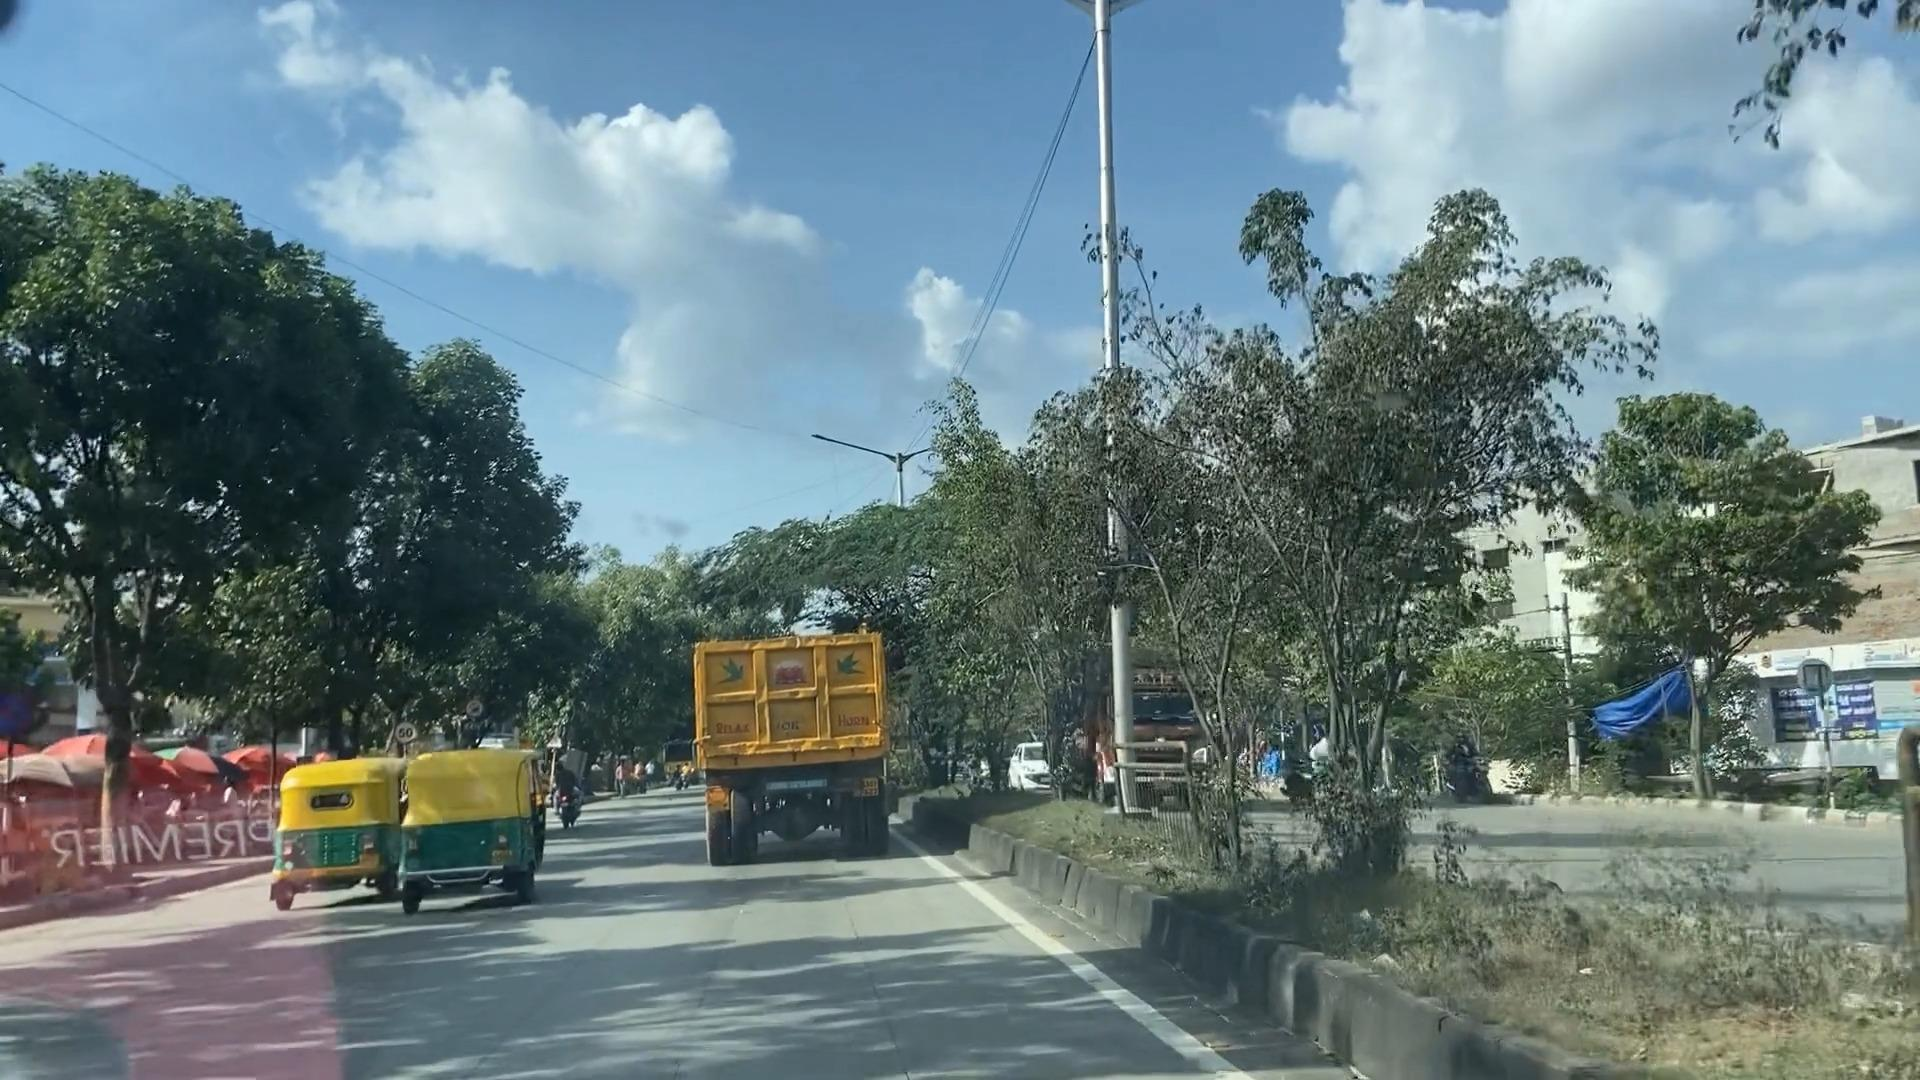HMV: (708, 617, 895, 851)
LMV: (407, 766, 566, 928), (274, 761, 397, 881)
